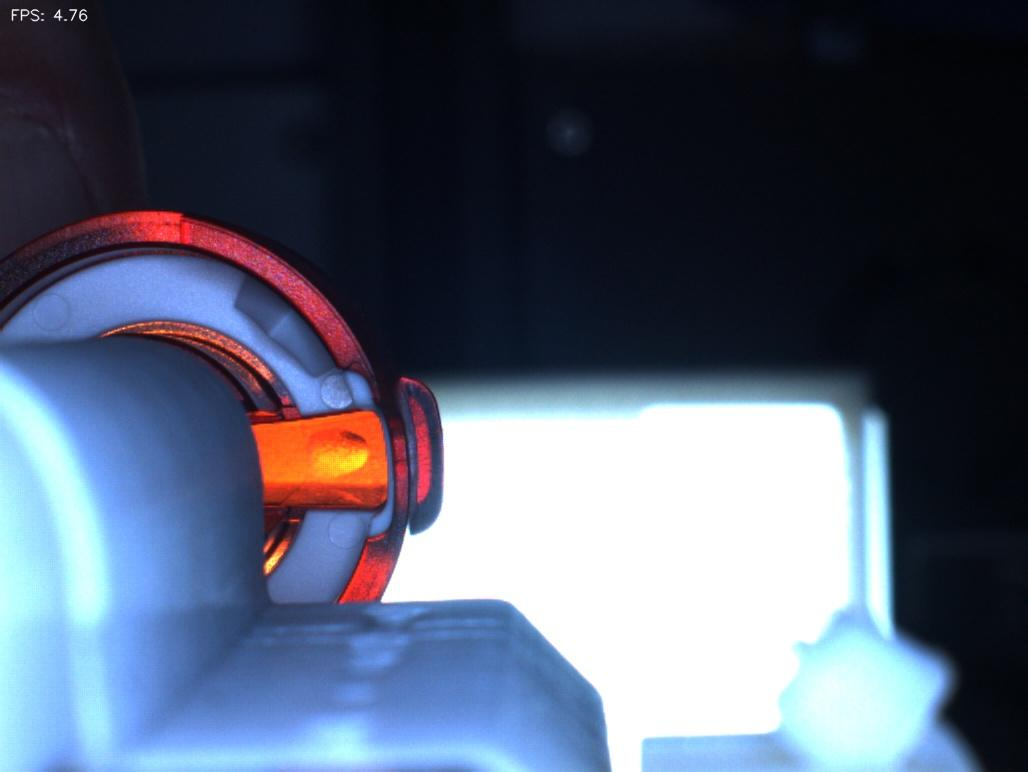Retassure: (286, 420, 380, 487)
